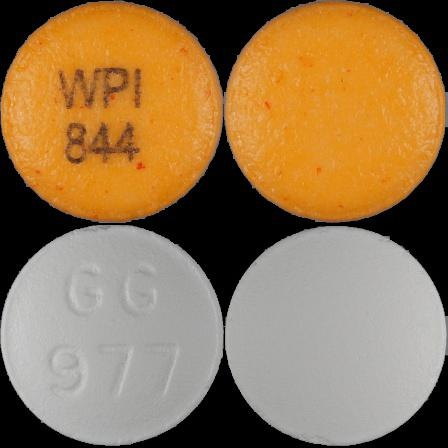55289-779: (0, 0, 224, 224)
